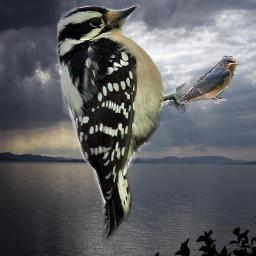Swallow: (177, 56, 239, 106)
Woodpecker: (53, 0, 202, 242)
